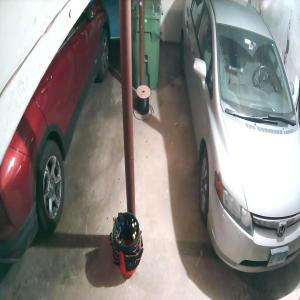garbage bin: (130, 0, 162, 91)
honda civic: (180, 0, 300, 275)
honda crv: (0, 0, 111, 264)
tool bucket: (109, 211, 144, 277)
